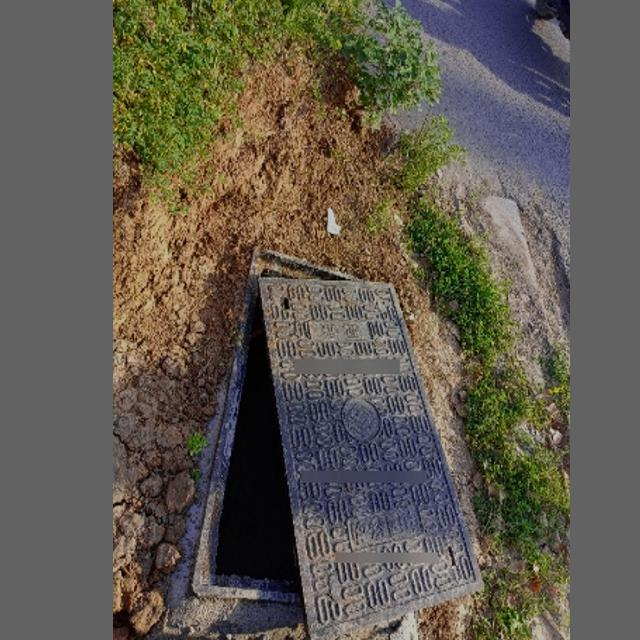uncovered: (191, 244, 482, 640)
